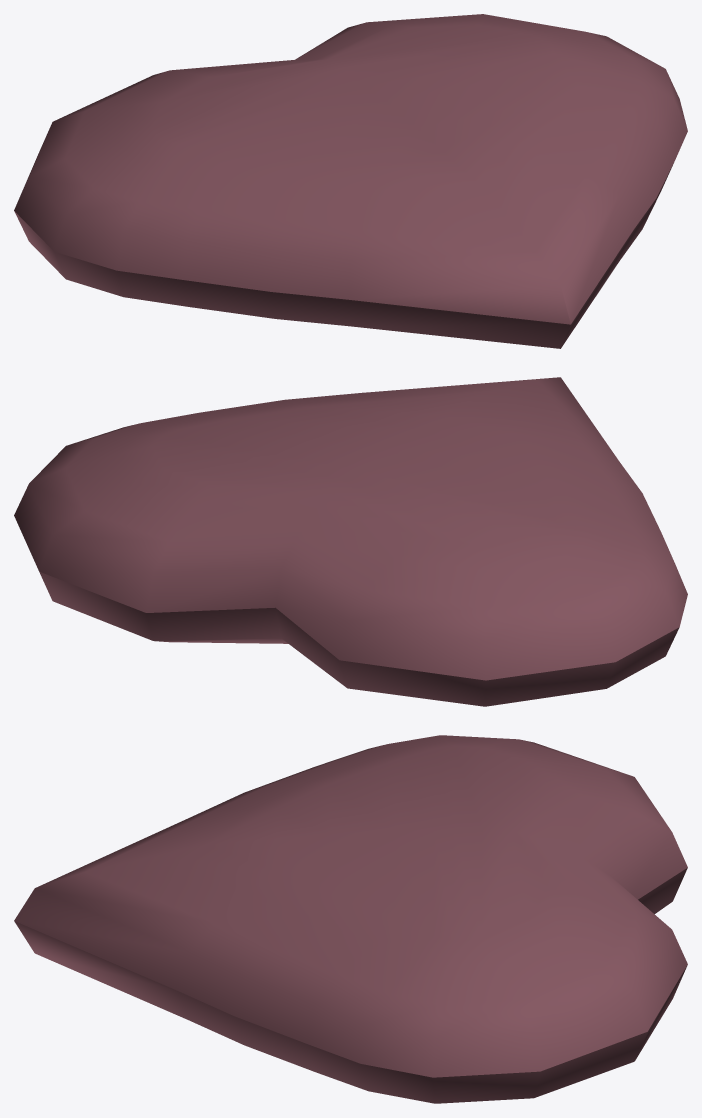
File: heart.fbx
3 views of the same model, one above another, from view 1: azimuth 30°, elevation 25°; view 2: azimuth 150°, elevation 25°; view 3: azimuth 270°, elevation 25° (orthographic). The views are drawn at different scales.
Parts seen in each view (by area): view 1: heart; view 2: heart; view 3: heart.
Boxes of the visible parts, bbox=[...] form: heart: bbox=[14, 14, 687, 348]; heart: bbox=[14, 377, 687, 706]; heart: bbox=[14, 735, 687, 1103].
Bounding box in the file's own units: 0.109 × 0.0989 × 0.0223.
